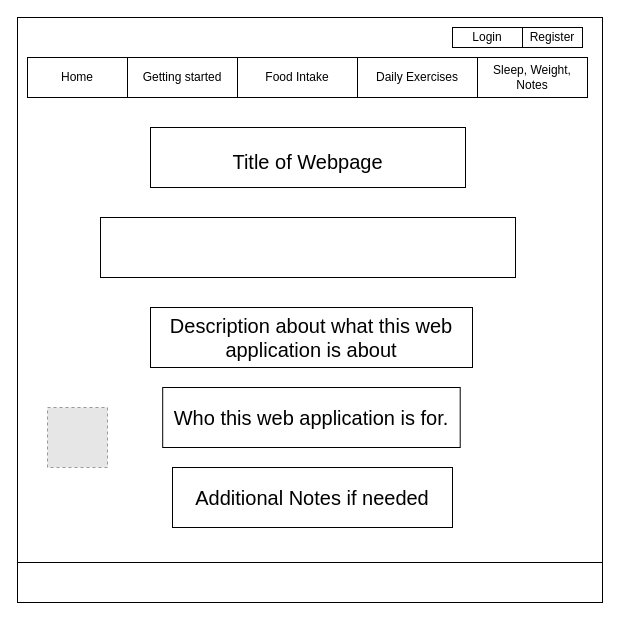
The diagram is 620 pixels wide and 620 high, and some of its shapes have lost their labels. Grey dashed boxes stand in for pictures. Each missing label, with the centre of its shape:
"Footer" belongs at (309,582).
"Motivational Message!" belongs at (308,247).
